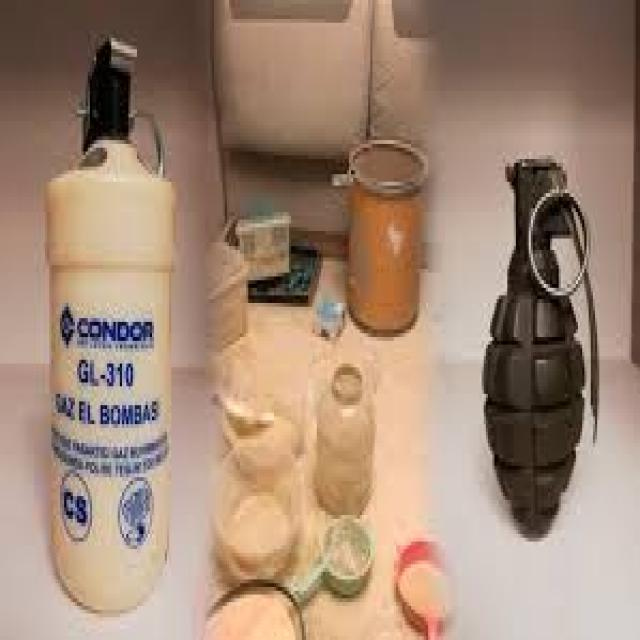grenade: (481, 150, 604, 550)
